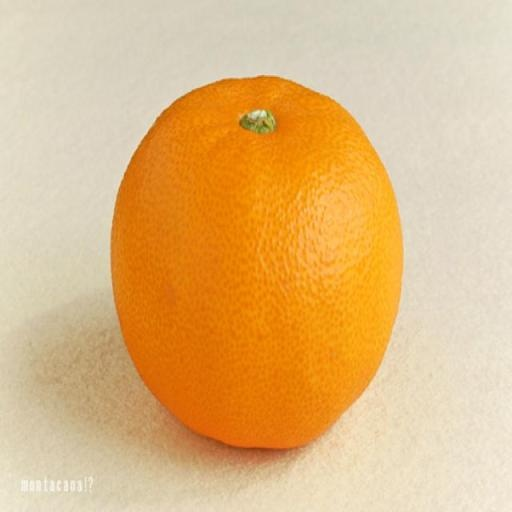fruit: (112, 77, 402, 447)
